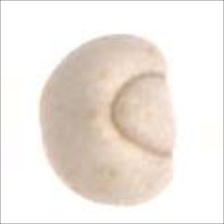L5: (108, 72, 178, 159), (35, 82, 59, 158)
L6: (37, 31, 179, 208)
